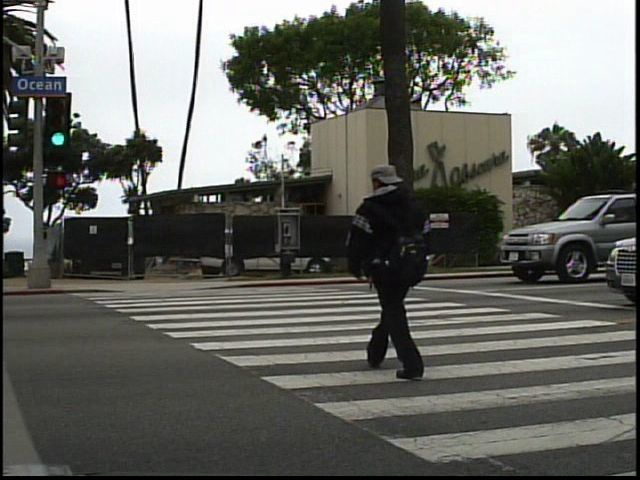person: (342, 143, 446, 385)
